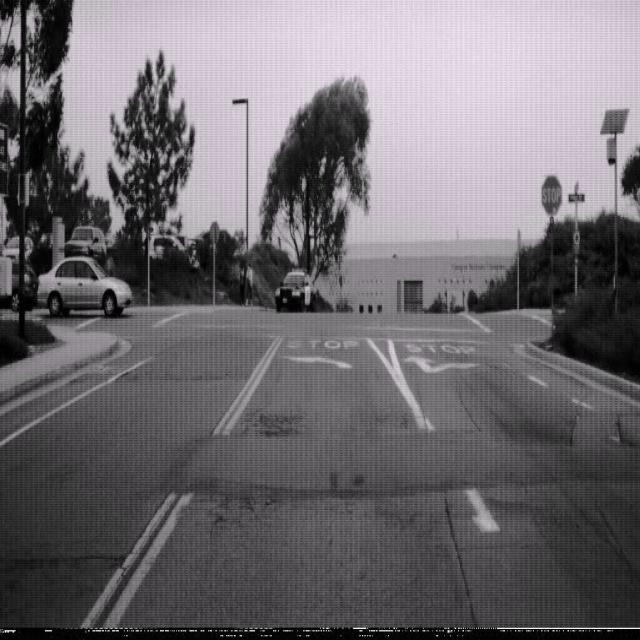stop: (540, 174, 562, 217)
